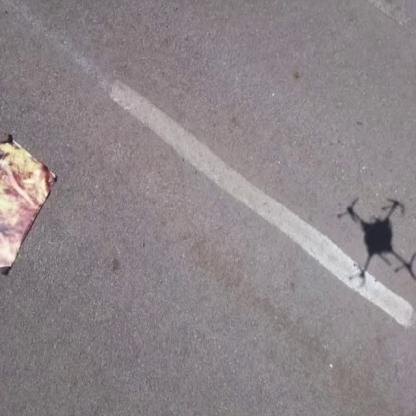fire-poster: (0, 131, 58, 275)
